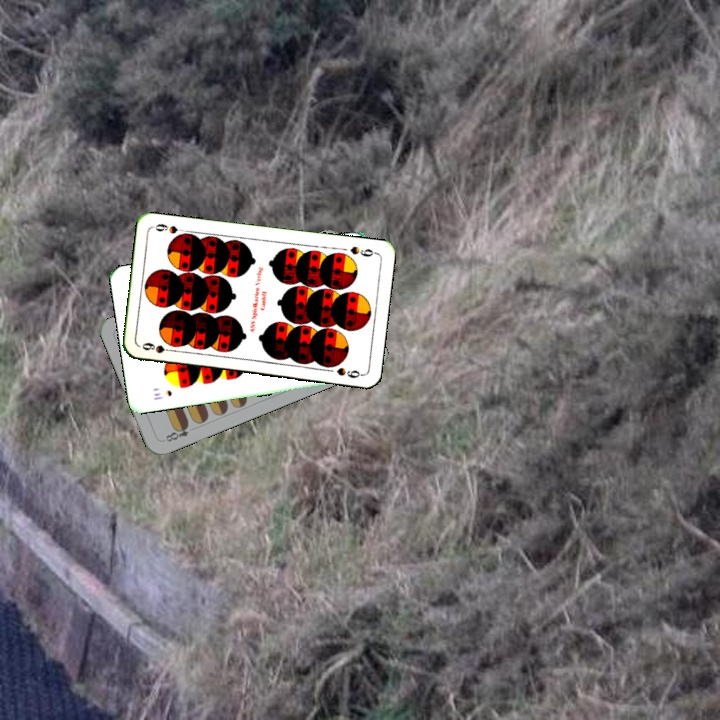E8: (159, 420, 192, 444)
S10: (150, 386, 174, 402)
S9: (138, 339, 178, 356), (346, 243, 379, 259)
